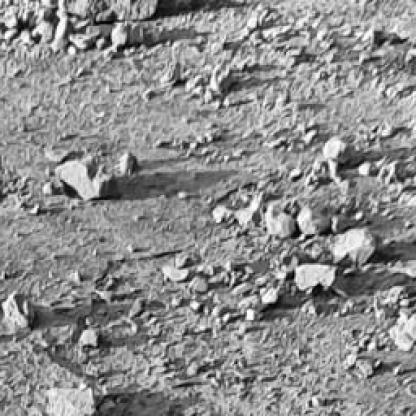cementitious_debris: (0, 1, 413, 413)
